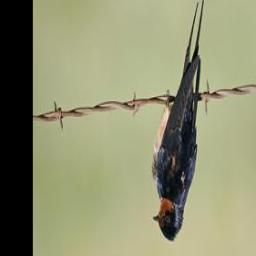Swallow: (152, 0, 207, 245)
